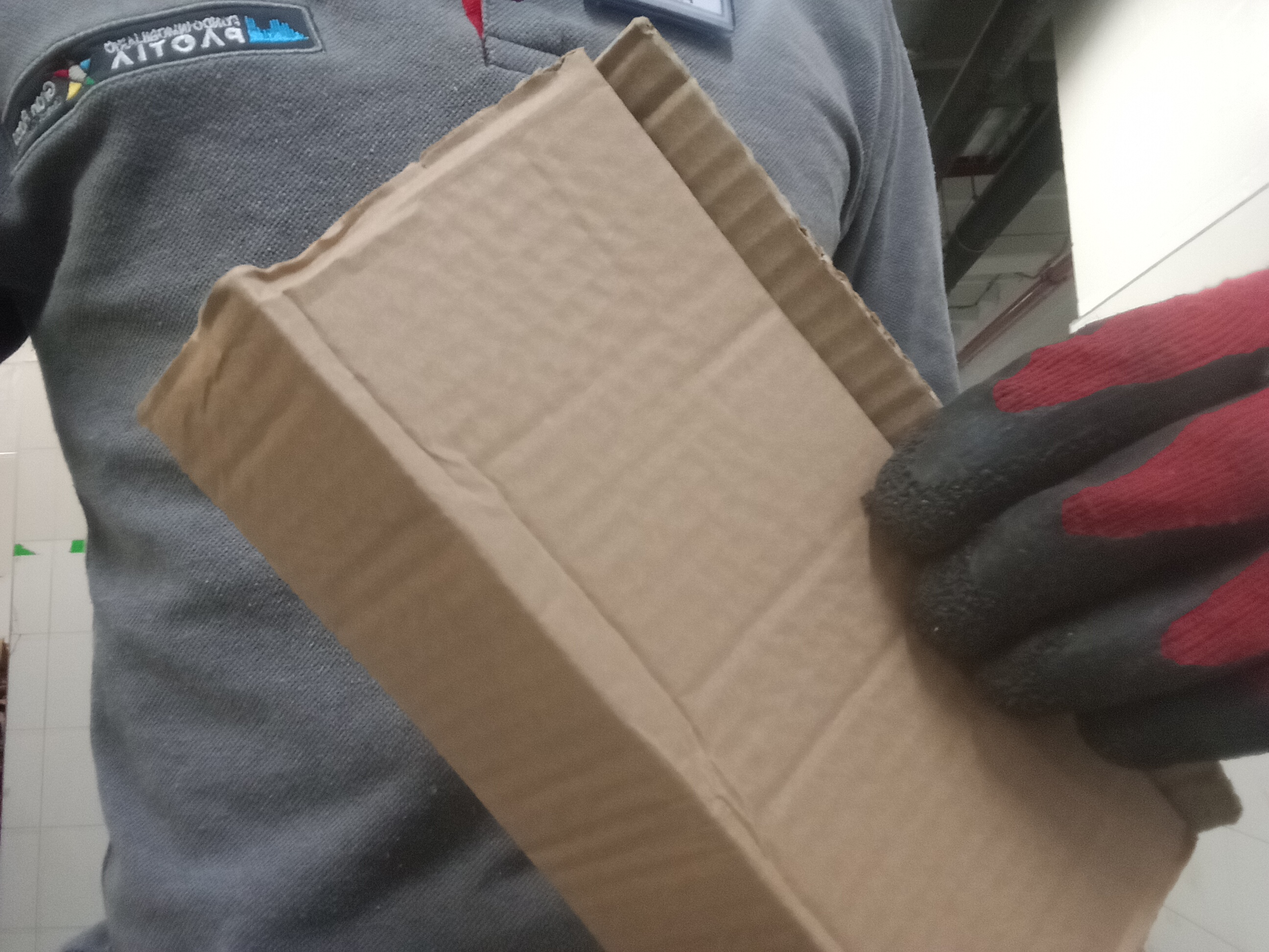Carton: (139, 21, 1244, 952)
